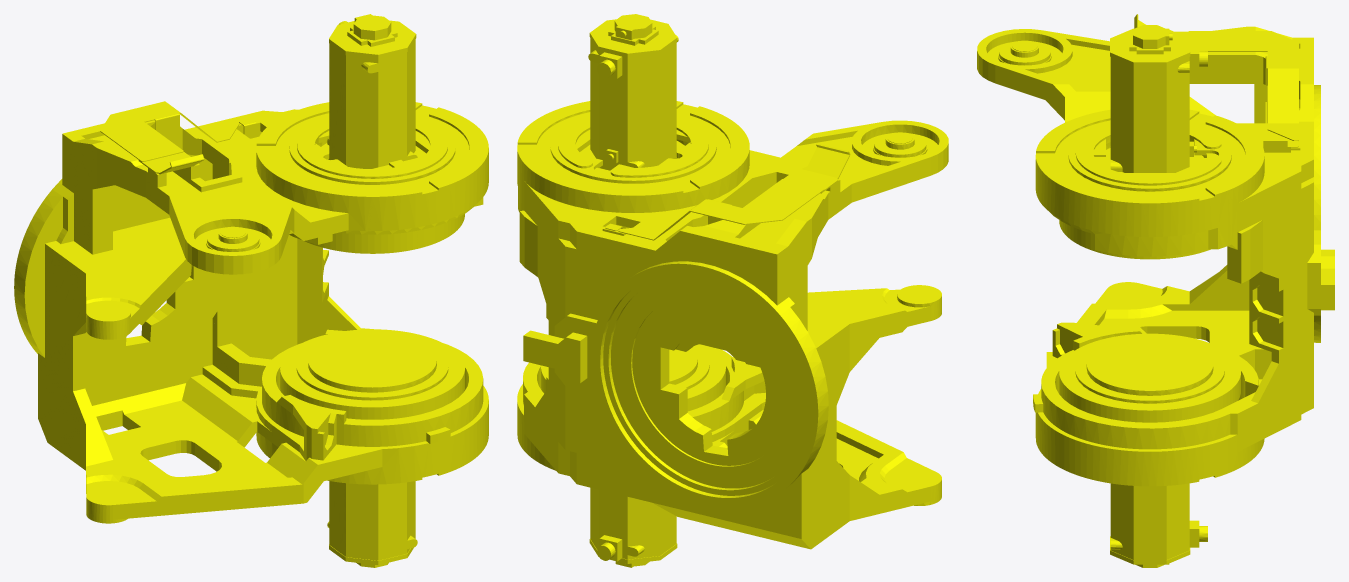
3 renders of one model, left to right at view 1: azimuth 30°, elevation 25°; view 2: azimuth 150°, elevation 25°; view 3: azimuth 270°, elevation 25°, orthographic.
Visible parts, largest first — view 1: node; view 2: node; view 3: node.
Boxes of the visible parts, x1,y1,x2,y2 form: node: (14,14,488,567); node: (517,14,948,567); node: (977,14,1334,567).
Size of the model in its own units: 975 by 1266 by 777.
